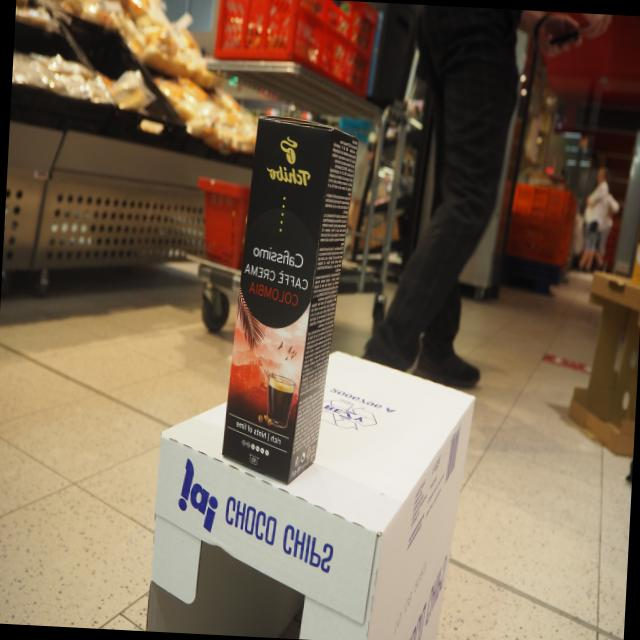Simo CC Colombia: (215, 112, 362, 503)
